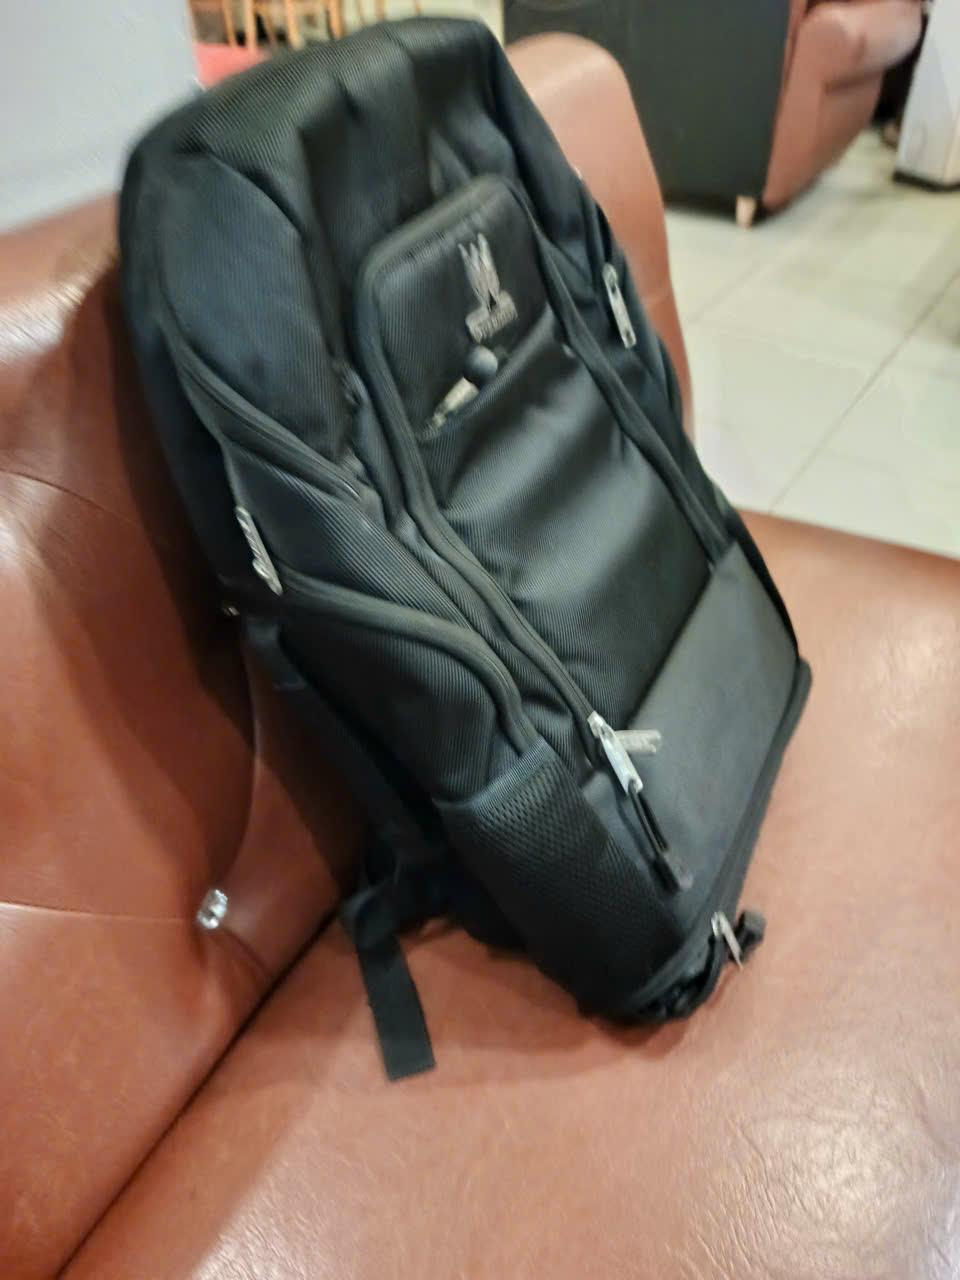Con lai: (110, 13, 812, 1037)
